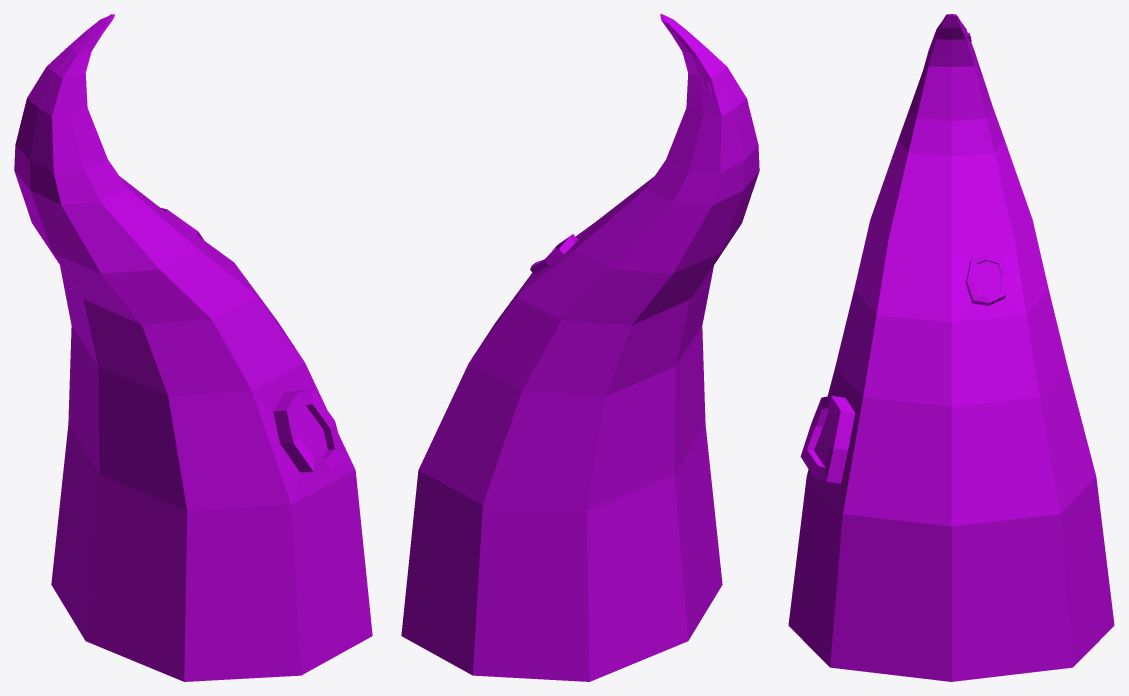
Rendered from Tentacle.fbx.
The picture shows the model from 3 angles, left to right: view 1: azimuth 30°, elevation 25°; view 2: azimuth 150°, elevation 25°; view 3: azimuth 270°, elevation 25°; orthographic projection. The views are drawn at different scales.
Visible parts, largest first — view 1: Cube; view 2: Cube; view 3: Cube.
Part boxes in pixels (x1=…): Cube: x1=14, y1=14, x2=372, y2=681; Cube: x1=401, y1=14, x2=759, y2=681; Cube: x1=788, y1=14, x2=1114, y2=681.
Bounding box in the file's own units: 198 × 380 × 198.
